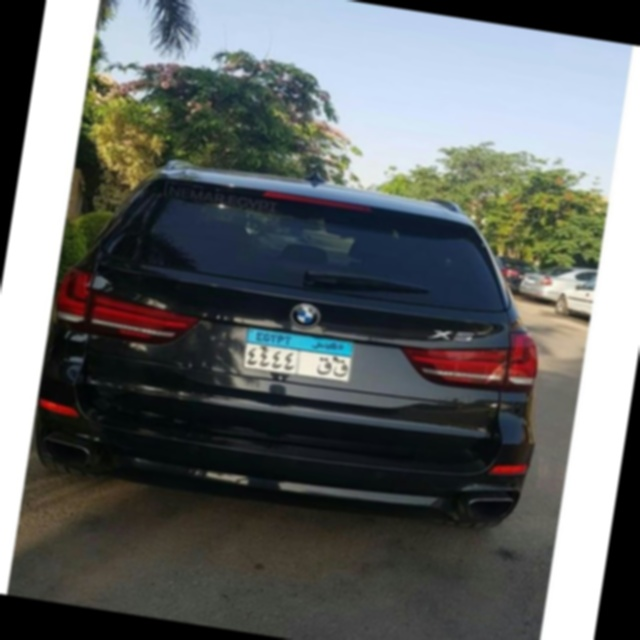License Plate: (240, 323, 360, 386)
